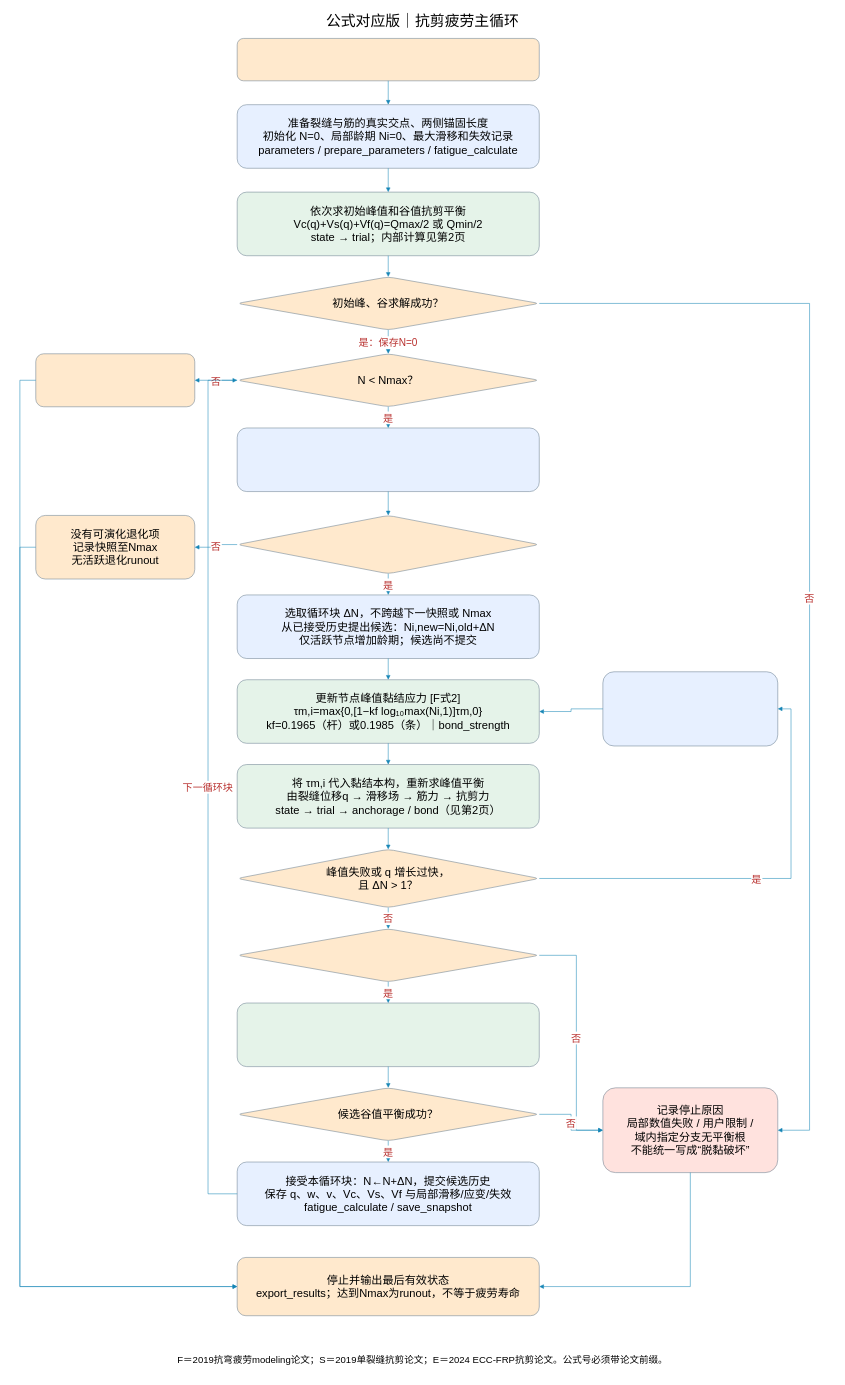
This 845x1385 diagram has some shape labels left out. The centre of each missing label's shape, as x and y in pixels:
"候选峰值平衡成功？" goes at (388,955).
"减小循环块 ΔN←max[1,floor(ΔN/2)] 从同一份已接受历史重算" goes at (690,708).
"开始：输入真实试件与峰谷总荷载 Qmax、Qmin" goes at (388,59).
"有活跃节点或启用了 其他材料 S–N 退化？" goes at (388,544).
"根据峰谷滑移判断本步活跃节点 (smax>0.75δm 或曾激活)，且峰谷滑移差>容差 active_nodes｜F：阈值；历史保持与容差为代码规则" goes at (388,459).
"继承峰值最大滑移历史，求谷值平衡 当前FRP黏结应力＝历史割线刚度×当前滑移 state → trial；谷值目标剪力 Qmin/2" goes at (388,1034).
"达到循环上限 记录runout" goes at (115,380).
